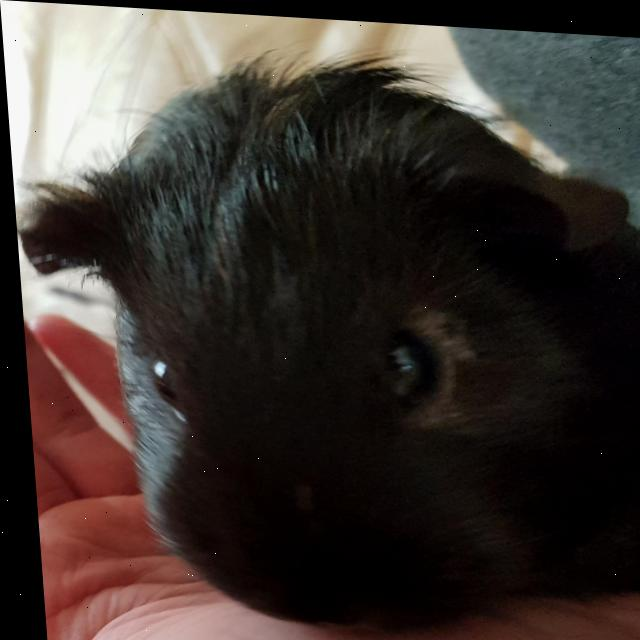guinea pig: (3, 50, 640, 640)
